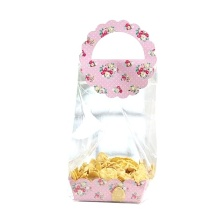snack: (61, 12, 166, 208)
